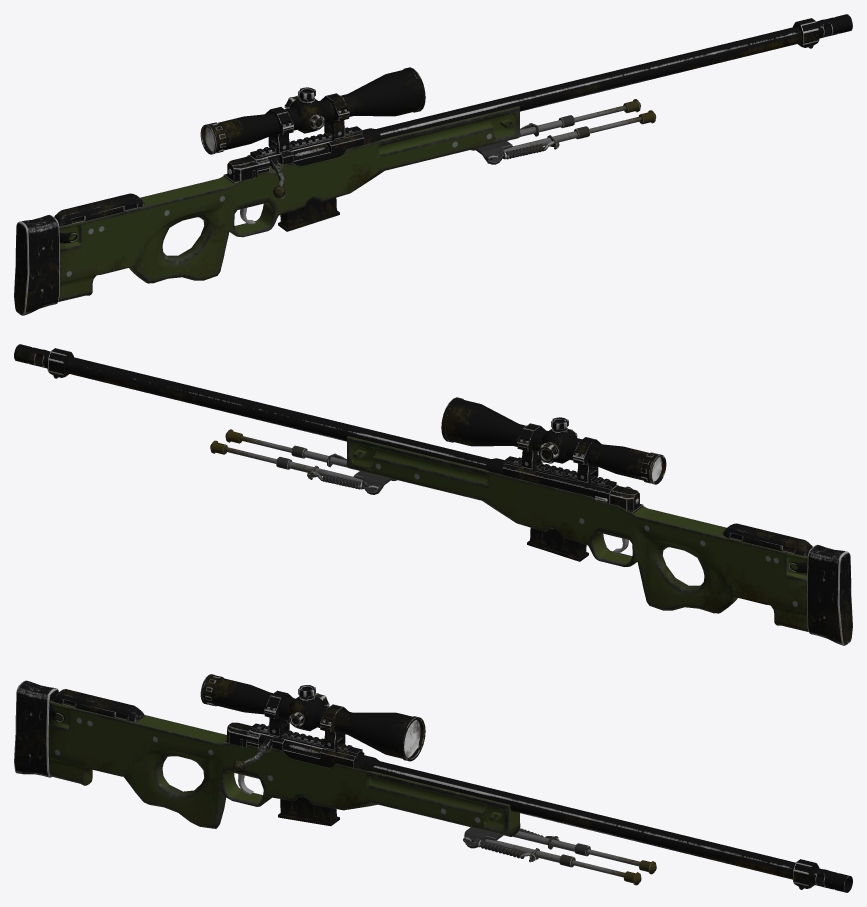
Rendered from awp.glb.
The picture shows the model from 3 angles, top to bottom: view 1: azimuth 30°, elevation 25°; view 2: azimuth 150°, elevation 25°; view 3: azimuth 330°, elevation 25°; orthographic projection.
Visible parts, largest first — view 1: Object_6, Object_2, Object_9, Object_1, Object_3, Object_7, Object_5, Object_10; view 2: Object_6, Object_2, Object_9, Object_1, Object_3, Object_7, Object_5, Object_10; view 3: Object_6, Object_2, Object_9, Object_1, Object_3, Object_7, Object_5, Object_10.
Boxes of the visible parts, box(x1,y1,x2,y2) form: Object_6: box(58, 106, 520, 301); Object_2: box(257, 14, 852, 166); Object_9: box(200, 67, 425, 154); Object_1: box(14, 214, 60, 315); Object_3: box(471, 99, 656, 164); Object_7: box(223, 126, 364, 183); Object_5: box(54, 193, 144, 226); Object_10: box(278, 198, 339, 231); Object_6: box(346, 436, 808, 631); Object_2: box(14, 344, 505, 474); Object_9: box(441, 397, 666, 484); Object_1: box(806, 544, 852, 645); Object_3: box(210, 429, 397, 494); Object_7: box(502, 456, 643, 513); Object_5: box(722, 523, 812, 556); Object_10: box(527, 528, 588, 561); Object_6: box(48, 700, 520, 836); Object_2: box(250, 734, 852, 892); Object_9: box(200, 674, 425, 761); Object_1: box(14, 680, 58, 777); Object_3: box(463, 827, 656, 885); Object_7: box(223, 722, 364, 767); Object_5: box(52, 689, 144, 722); Object_10: box(278, 797, 339, 826).
Size of the model in its own units: 1.2 by 0.2261 by 0.094.
10 materials, 10 textured.
